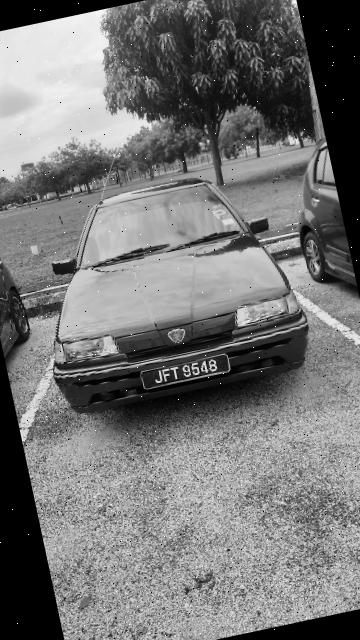License_Plate: (136, 350, 242, 397)
car: (16, 152, 331, 440)
